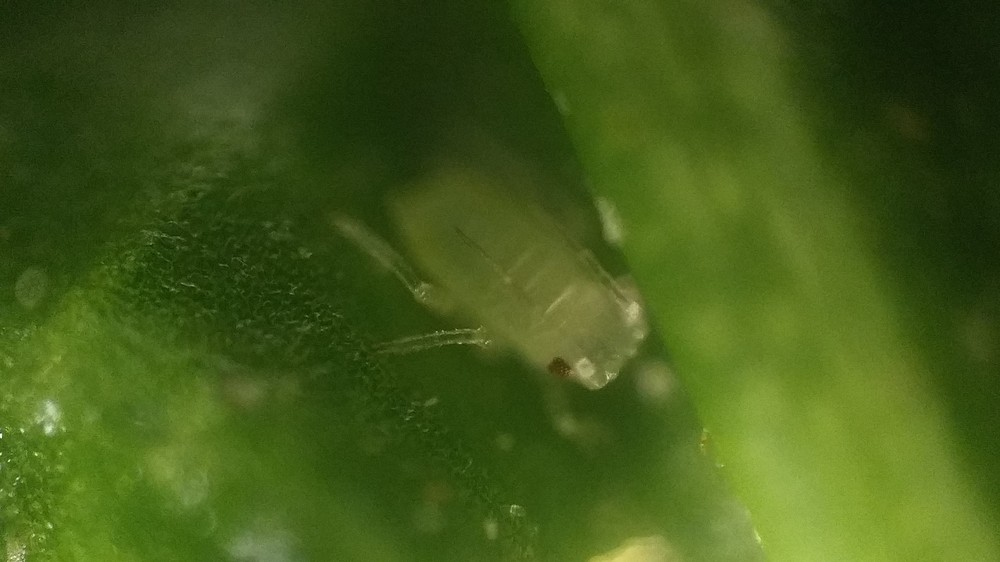Pulgon: (333, 119, 723, 448)
